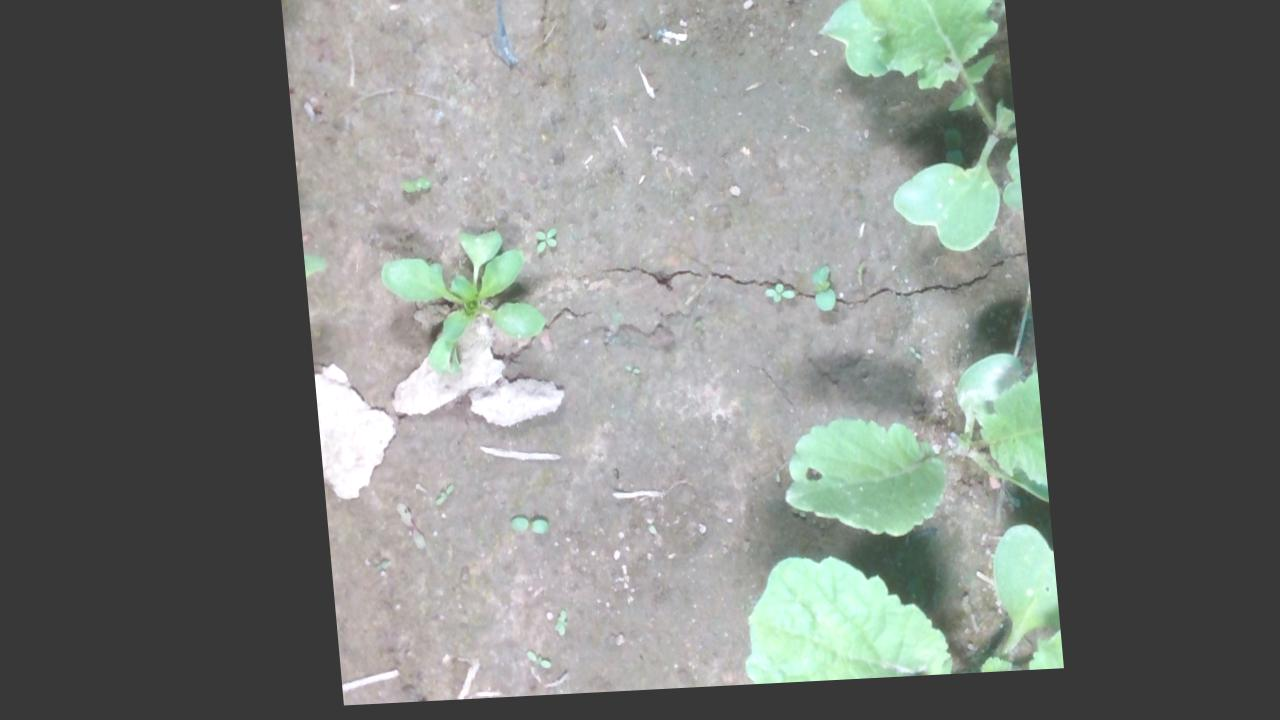weed: (801, 272, 829, 322), (496, 521, 540, 542), (528, 232, 554, 261), (755, 291, 789, 313), (392, 181, 429, 198), (510, 654, 538, 674), (423, 488, 445, 511), (615, 372, 635, 383)
